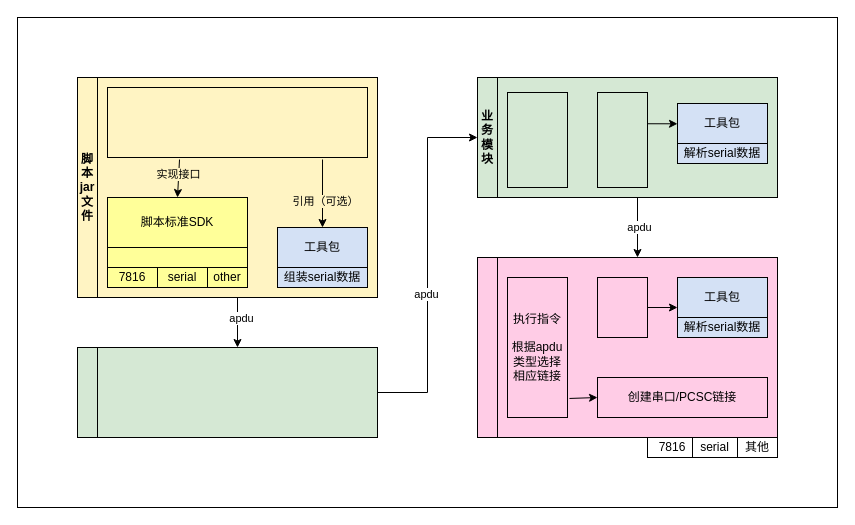
This 855x525 diagram has some shape labels left out. The shapes that lost their labels are listed below. From the top down, each one's centre as x and y in pixels, then its label:
At pixel 237 122: "脚本内容".
At pixel 537 140: "任 务 执行".
At pixel 622 140: "生成 日志".
At pixel 177 257: "apdu类型".
At pixel 622 307: "控制台 打印日志".
At pixel 487 347: "客户端".
At pixel 87 392: "脚本执行引擎".
At pixel 237 392: "加载并执行脚本文件".
